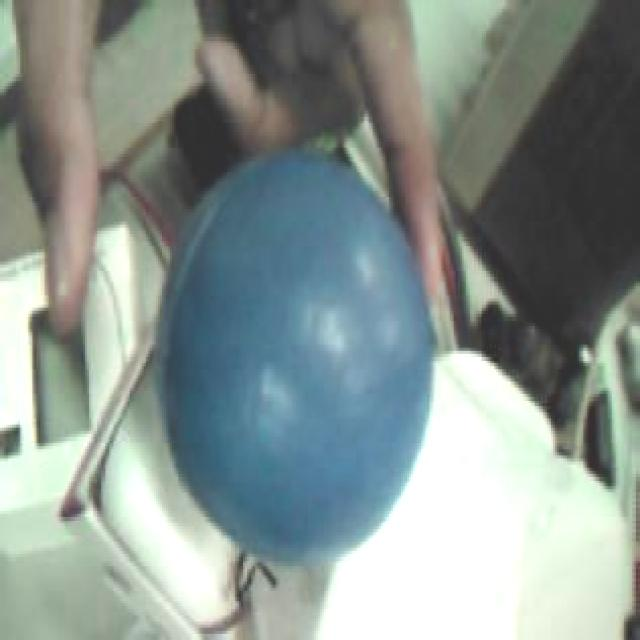BallPurple: (156, 144, 432, 560)
